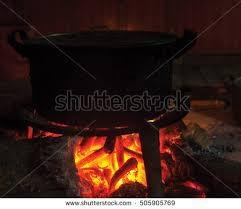fire: (74, 129, 146, 192)
